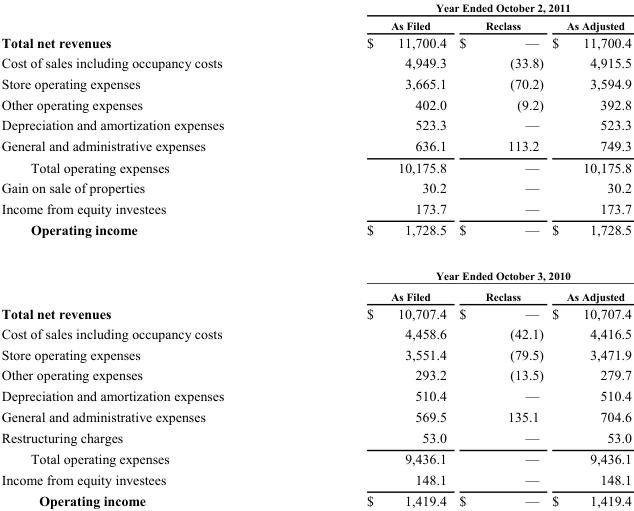table: (0, 0, 631, 508)
table column: (0, 0, 294, 508), (294, 0, 452, 508), (452, 0, 547, 508), (547, 0, 631, 508)
table column header: (0, 0, 631, 32)
table row: (0, 218, 631, 253), (0, 253, 631, 285), (0, 426, 631, 448), (0, 72, 631, 93), (0, 93, 631, 114), (0, 114, 631, 135), (0, 135, 631, 156), (0, 156, 631, 177), (0, 197, 631, 218), (0, 343, 631, 364), (0, 364, 631, 385), (0, 385, 631, 406), (0, 468, 631, 489), (0, 32, 631, 52), (0, 52, 631, 72), (0, 177, 631, 197), (0, 303, 631, 323), (0, 323, 631, 343), (0, 406, 631, 426), (0, 448, 631, 468), (0, 489, 631, 508), (0, 285, 631, 303), (0, 15, 631, 32), (0, 0, 631, 15)
table spanning cell: (294, 253, 631, 285), (294, 0, 631, 15)
